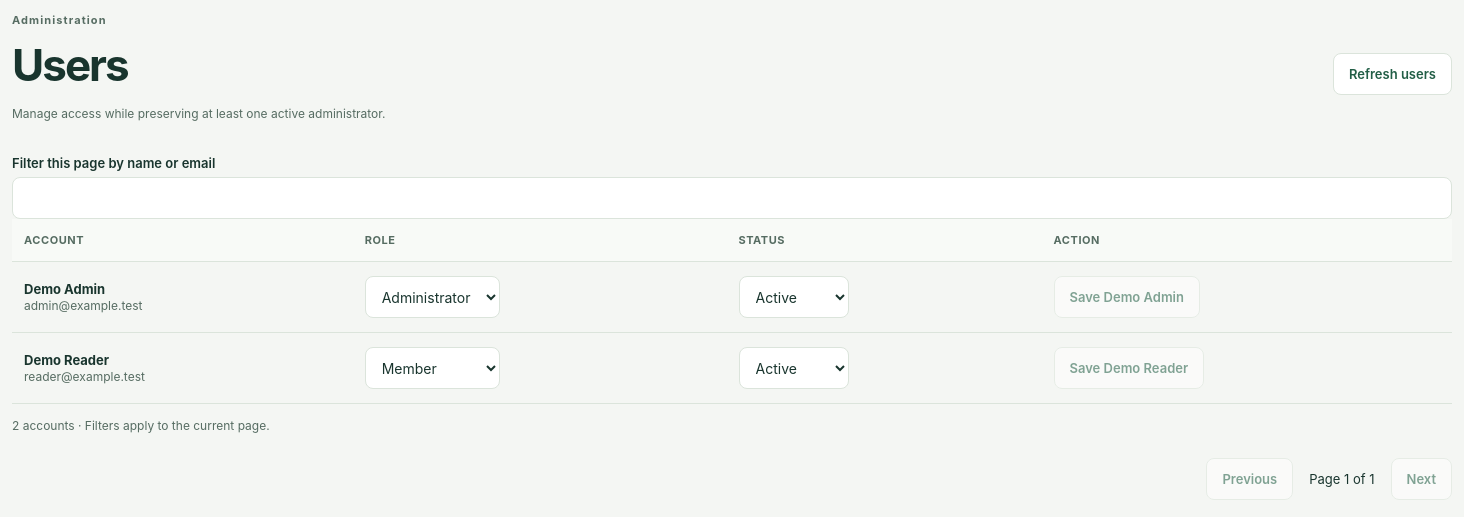
Test case: administrator user management › patches only role/status and reloads the server state
Expected: the text "reader@example.test" is shown, [24,369,145,384]
Select "Librarian" in the dropdown named "Role for reader@example.test": (432, 368) [365,347,500,389]
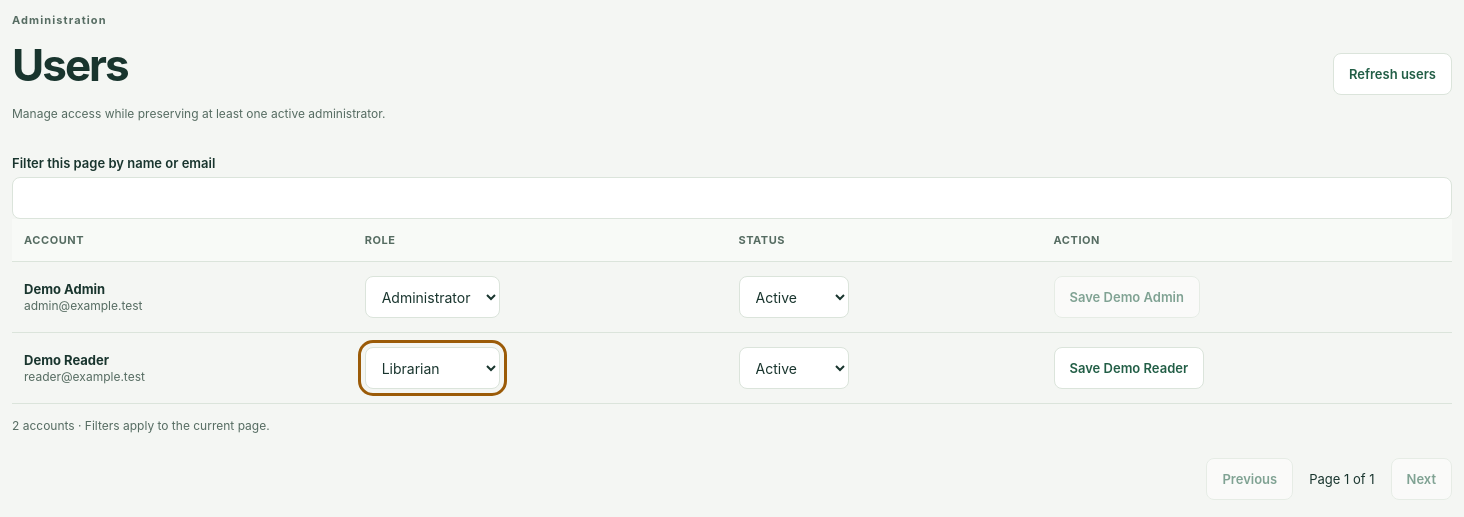
Click the button "Save Demo Reader": (1129, 368) [1054,347,1204,389]
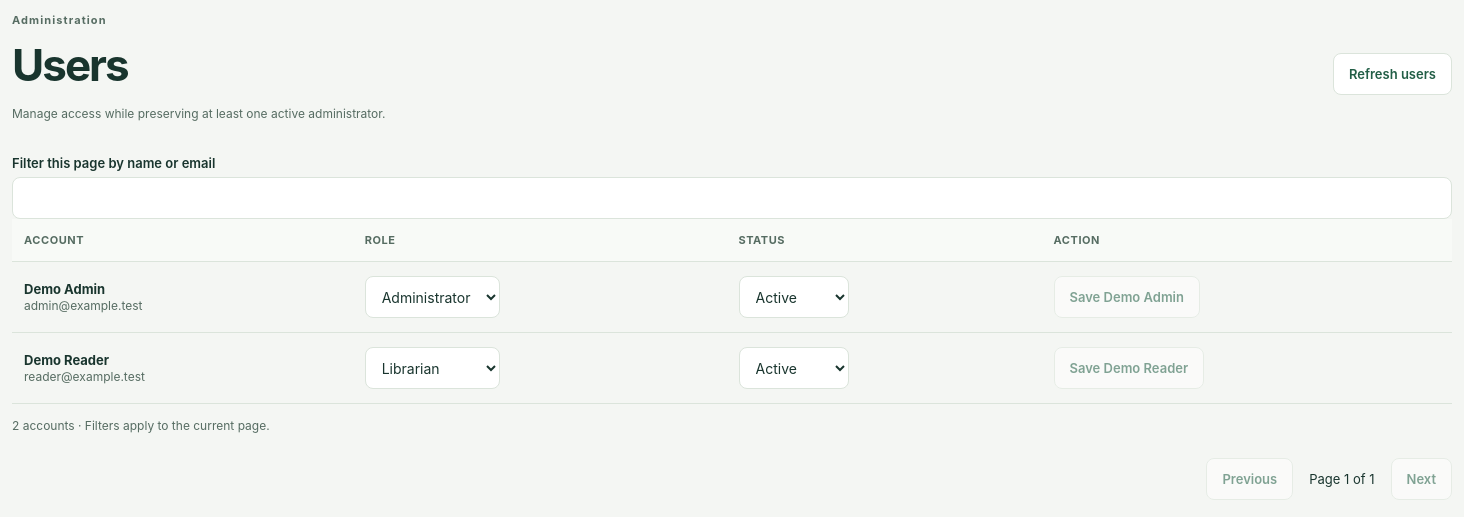
Expected: the button "Save Demo Reader" is disabled, [1054,347,1204,389]
